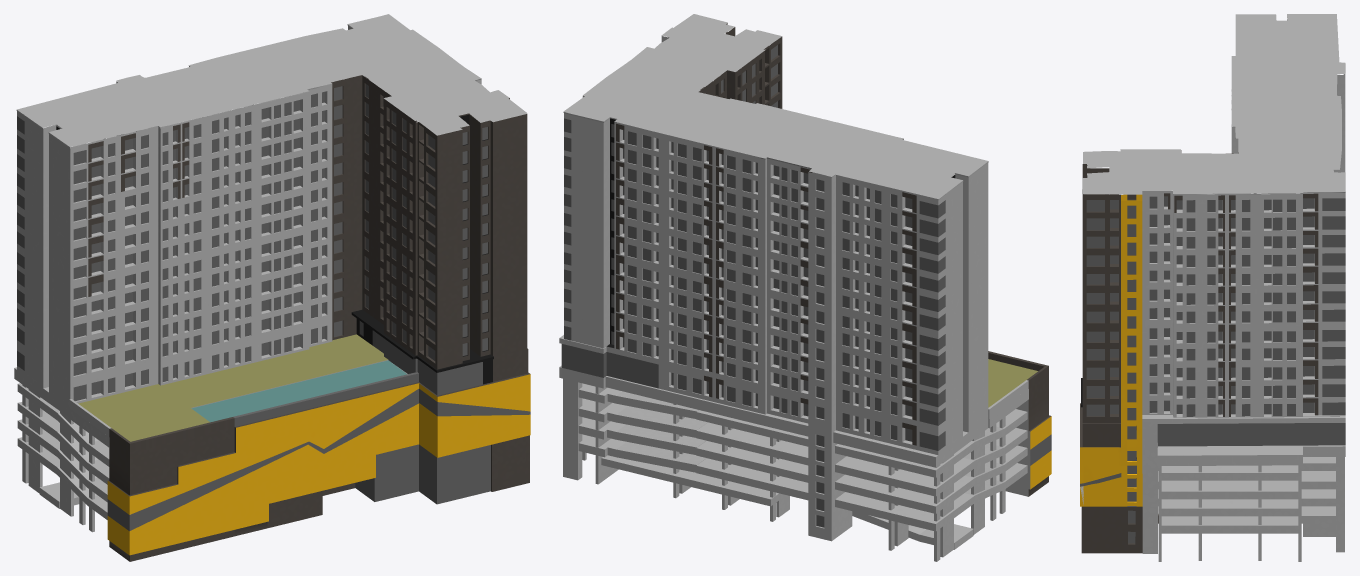
The model's file is final_cut13.glb.
The picture shows the model from 3 angles, left to right: view 1: azimuth 30°, elevation 25°; view 2: azimuth 150°, elevation 25°; view 3: azimuth 270°, elevation 25°; orthographic projection. The views are drawn at different scales.
Visible parts, largest first — view 1: cut:pPlane3 (×8); view 2: cut:pPlane3 (×8); view 3: cut:pPlane3 (×5).
Boxes of the visible parts, bbox=[...] form: cut:pPlane3 (×8): bbox=[14, 14, 530, 561]; cut:pPlane3 (×8): bbox=[559, 14, 1051, 561]; cut:pPlane3 (×5): bbox=[1080, 14, 1345, 561].
Bounding box in the file's own units: 4.69 × 4.15 × 2.77.
11 materials, 11 textured.
